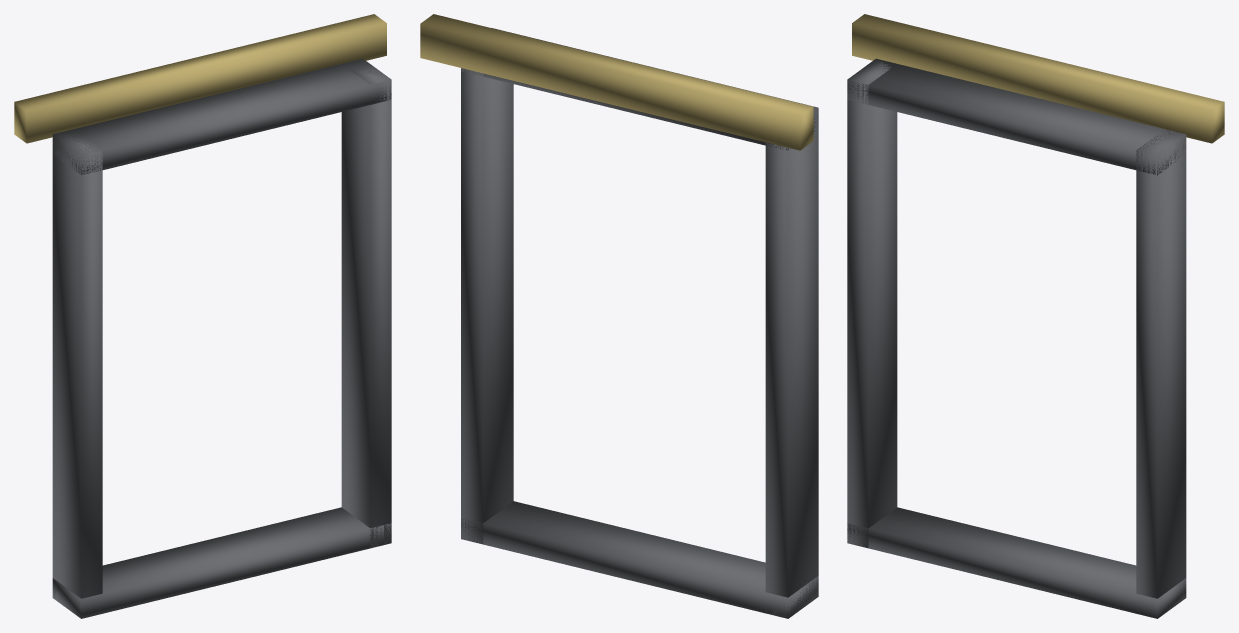
Rendered from egress_window_motel_w86_h130_s88_d16.glb.
3 renders of one model, left to right at view 1: azimuth 30°, elevation 25°; view 2: azimuth 150°, elevation 25°; view 3: azimuth 330°, elevation 25°, orthographic. The views are drawn at different scales.
Visible parts, largest first — view 1: world; view 2: world; view 3: world.
Boxes of the visible parts, bbox=[...] form: world: bbox=[14, 14, 391, 618]; world: bbox=[420, 14, 818, 618]; world: bbox=[847, 14, 1224, 618].
Bounding box in the file's own units: 1.16 × 1.51 × 0.235.
